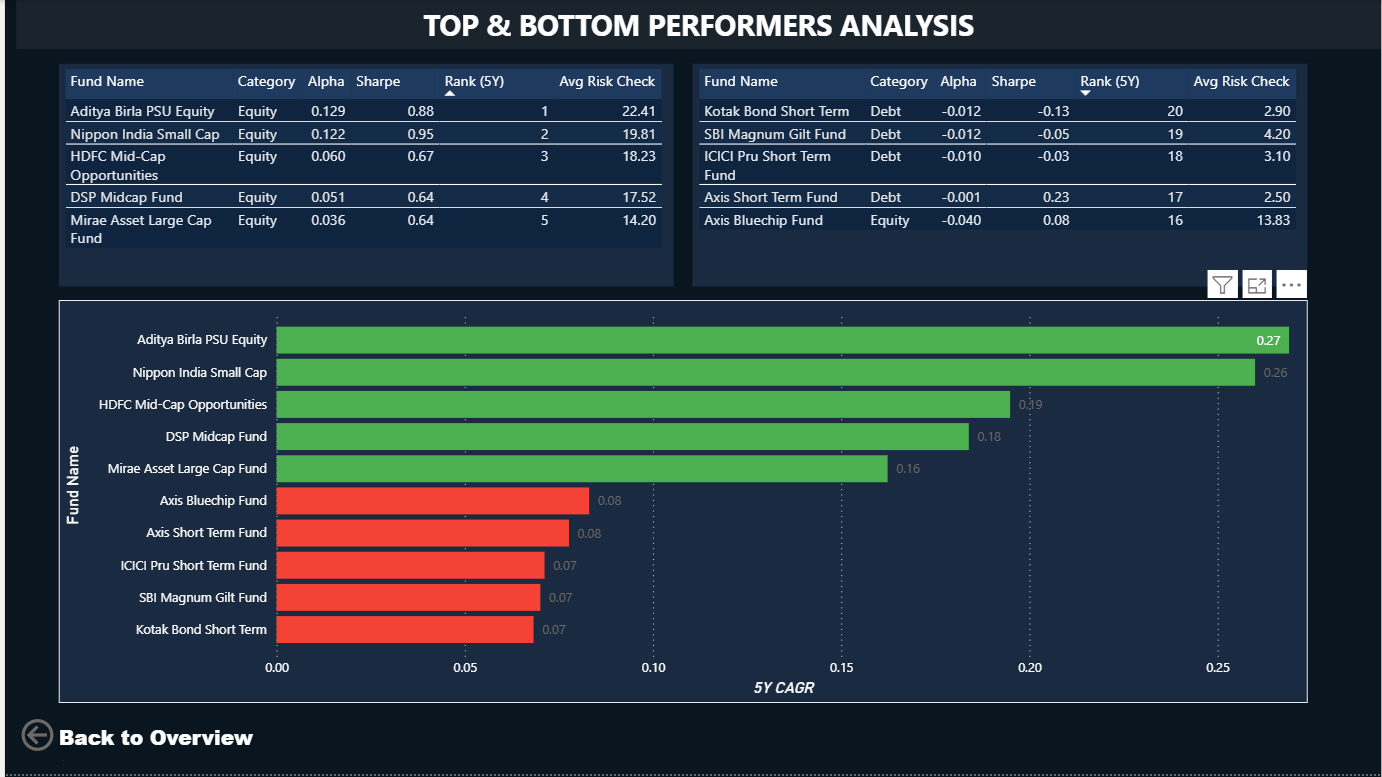

The dashboard page shown, as its layout file describes it:
{"tool":"powerbi","page":{"name":"Top Performers","canvas":[1280,720],"ordinal":1},"visuals":[{"type":"textbox","box":[10.5,0,1269.8,45.3],"z":0},{"type":"tableEx","fields":{"Values":["Expense Ratio Analysis.Fund Name","Expense Ratio Analysis.Category","Risk-Return Analysis.Alpha","Risk-Return Analysis.Sharpe","Risk-Return Analysis.Rank (5Y)","Risk-Return Analysis.Avg Return Check"]},"box":[50,59.3,572.1,207],"z":1000},{"type":"actionButton","box":[10.5,664,100,39.5],"z":2000},{"type":"tableEx","fields":{"Values":["Expense Ratio Analysis.Fund Name","Expense Ratio Analysis.Category","Risk-Return Analysis.Alpha","Risk-Return Analysis.Sharpe","Risk-Return Analysis.Rank (5Y)","Risk-Return Analysis.Avg Return Check"]},"box":[639.5,59.3,572.1,207],"z":3000},{"type":"clusteredBarChart","title":"PERFORMANCE COMPARISON","fields":{"Category":["Financial Calculations.Fund Name"],"Y":["Sum(Risk-Return Analysis.5Y CAGR)"]},"box":[50,279.1,1161.6,374.4],"z":4000},{"type":"actionButton","title":"Back to Overview","box":[50,672.1,298.8,39.5],"z":5000}]}

Visuals, with their boxes in screenshot pixels (x1, y1, x2, y2), scaled from the page's 1280x720 canvas onto the 1382x777 screenshot:
textbox: 11/0/1381/49
tableEx - Expense Ratio Analysis.Fund Name x Expense Ratio Analysis.Category: 54/64/672/287
actionButton: 11/717/119/759
tableEx - Expense Ratio Analysis.Fund Name x Expense Ratio Analysis.Category: 690/64/1308/287
"PERFORMANCE COMPARISON" clusteredBarChart: 54/301/1308/705
"Back to Overview" actionButton: 54/725/377/768
